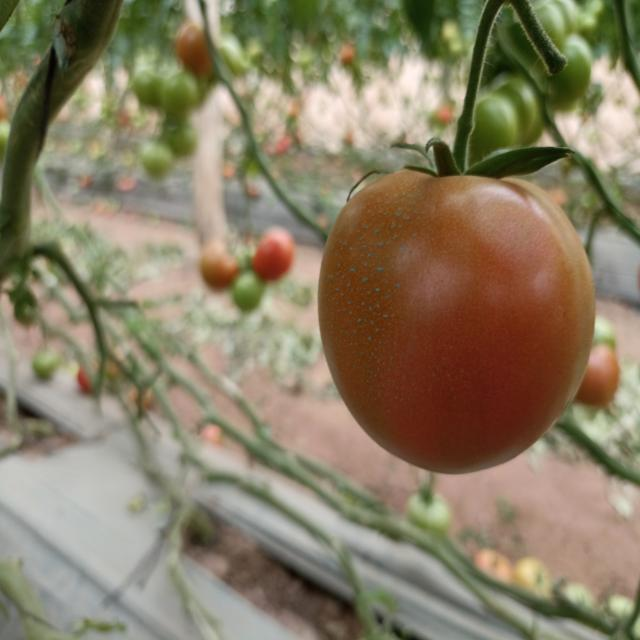Ripe Tomato: (317, 170, 599, 473)
